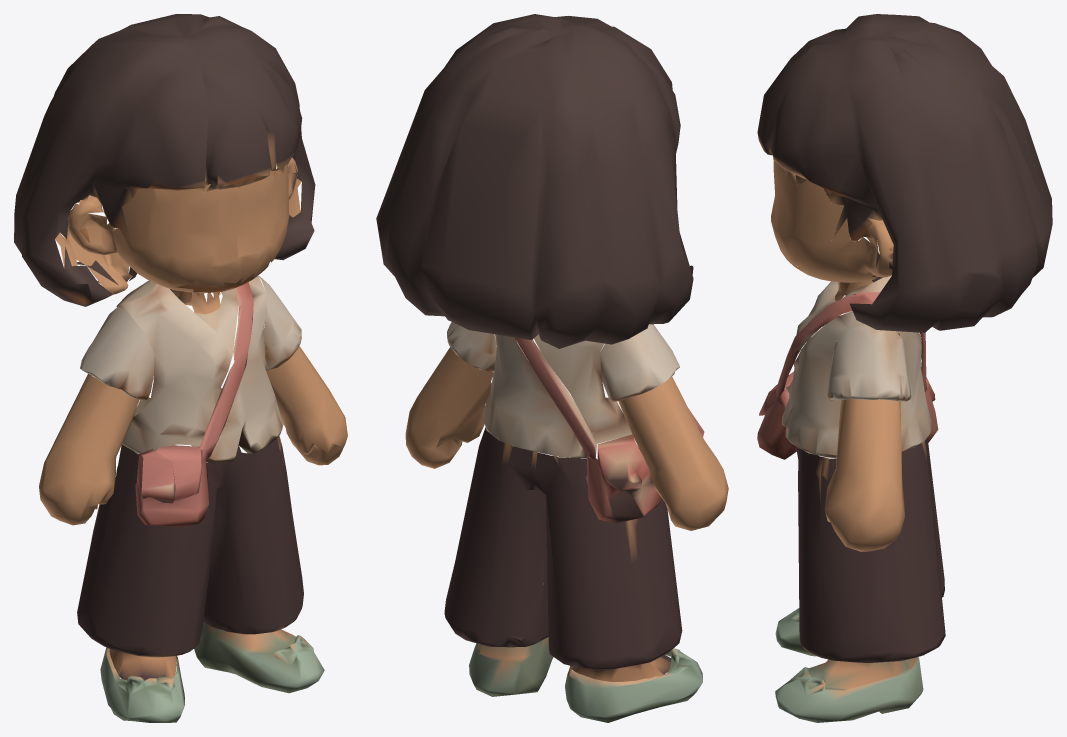
3 renders of one model, left to right at view 1: azimuth 30°, elevation 25°; view 2: azimuth 150°, elevation 25°; view 3: azimuth 270°, elevation 25°, orthographic. The views are drawn at different scales.
Parts seen in each view (by area): view 1: hair, bottom, top, head, hand_r, sleeve_r, shoe_l, hand_l, shoe_r, sleeve_l; view 2: hair, bottom, top, hand_r, sleeve_r, hand_l, shoe_r, shoe_l, sleeve_l; view 3: hair, bottom, top, hand_l, head, shoe_l, sleeve_l, shoe_r.
Boxes of the visible parts, bbox=[...] form: hair: bbox=[14, 14, 315, 306]; bottom: bbox=[77, 435, 303, 681]; top: bbox=[116, 276, 283, 527]; head: bbox=[55, 152, 301, 314]; hand_r: bbox=[39, 374, 139, 525]; sleeve_r: bbox=[80, 306, 174, 503]; shoe_l: bbox=[194, 622, 324, 693]; hand_l: bbox=[266, 346, 347, 465]; shoe_r: bbox=[100, 647, 184, 722]; sleeve_l: bbox=[258, 276, 301, 370]; hair: bbox=[376, 14, 693, 348]; bottom: bbox=[444, 427, 682, 681]; top: bbox=[482, 334, 631, 459]; hand_r: bbox=[618, 376, 728, 530]; sleeve_r: bbox=[586, 324, 704, 523]; hand_l: bbox=[405, 347, 493, 468]; shoe_r: bbox=[565, 648, 702, 722]; shoe_l: bbox=[469, 637, 553, 696]; sleeve_l: bbox=[447, 322, 496, 372]; hair: bbox=[757, 14, 1052, 332]; bottom: bbox=[796, 437, 945, 662]; top: bbox=[757, 275, 931, 459]; hand_l: bbox=[824, 399, 904, 551]; head: bbox=[761, 146, 893, 301]; shoe_l: bbox=[775, 657, 923, 722]; sleeve_l: bbox=[827, 324, 911, 401]; shoe_r: bbox=[775, 608, 817, 656].
Size of the model in its own units: 0.5012 by 1.03 by 0.4253.
